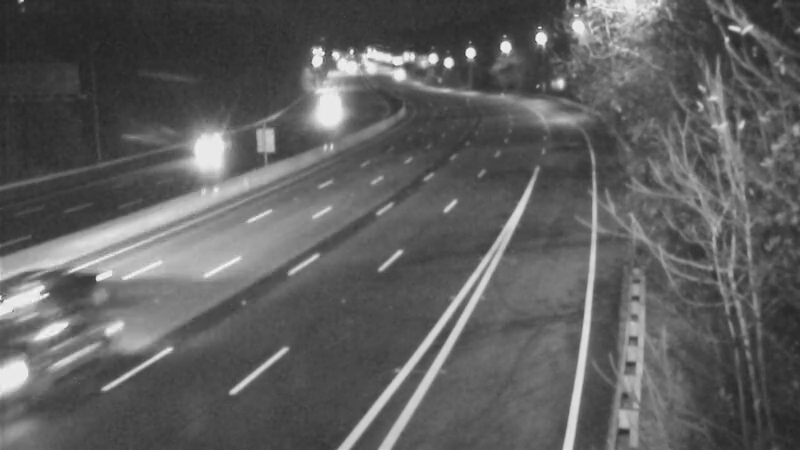vehicle: (3, 307, 113, 417), (3, 250, 83, 330), (367, 48, 417, 98), (196, 124, 246, 174), (305, 84, 355, 134)
